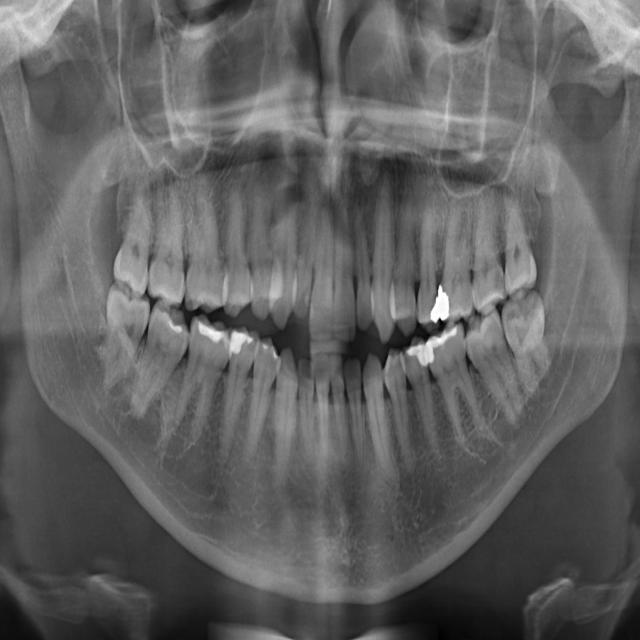3M ESPE Implant: (111, 198, 154, 294)
AGS Medikal Implant: (352, 203, 374, 333)
AMerOss Implant: (369, 169, 396, 344)
Amalgam filling: (392, 186, 417, 337)
Anthogyr Implant: (411, 201, 440, 334)
Bicon Implant: (438, 194, 475, 325)
BioHorizons Implant: (461, 185, 509, 313)
BioLife Implant: (499, 197, 539, 298)
Biomet 3i Implant: (496, 287, 564, 404)
Blue Sky Bio Implant: (516, 416, 517, 417)
Camlog Implant: (420, 320, 492, 453)
Caries: (147, 173, 192, 304)
Composite filling: (399, 333, 446, 476)
Cowellmedi Implant: (378, 345, 427, 481)
Crown: (357, 349, 401, 487)
DENTSPLY Implant: (343, 356, 366, 470)
Dentatus Implant: (328, 350, 350, 454)
Dentis Implant: (313, 349, 335, 464)
Dentium Implant: (298, 352, 315, 460)
Euroteknika Implant: (273, 345, 298, 486)
Filling: (239, 332, 281, 470)
Frontier Implant: (215, 323, 261, 468)
Hiossen Implant: (179, 177, 227, 314)
Implant: (126, 299, 195, 430)
Implant Direct: (168, 310, 236, 449)
Keystone Dental Implant: (102, 283, 151, 394)
MIS Implant: (221, 186, 250, 319)
Mandible: (249, 173, 272, 320)
Maxilla: (270, 167, 298, 331)
Megagen Implant: (290, 184, 322, 321)
Neodent Implant: (309, 202, 333, 344)
Neoss Implant: (334, 200, 357, 344)
